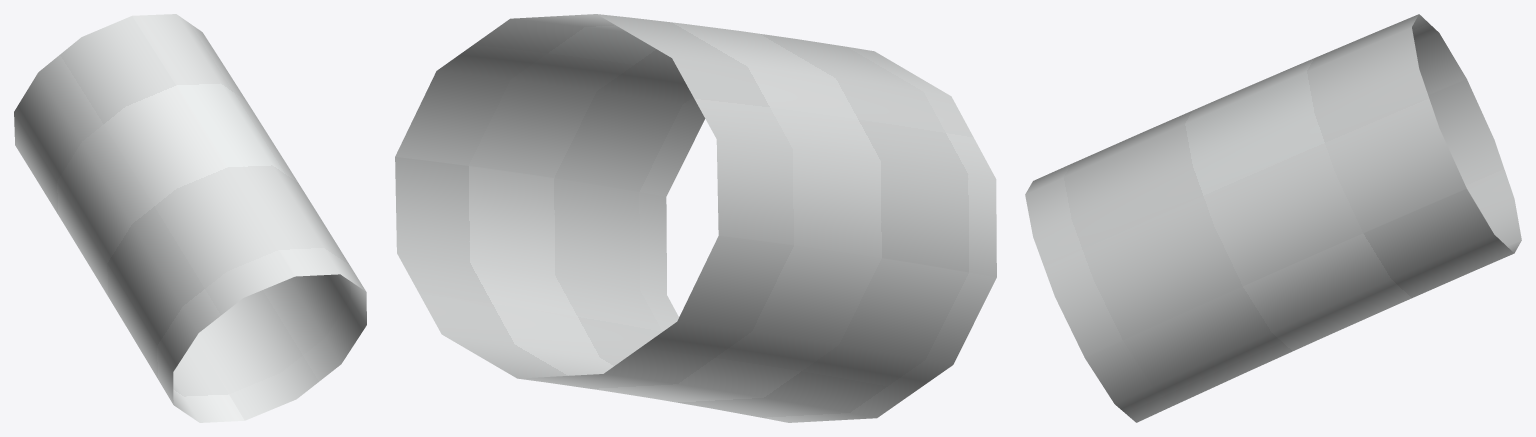
Rendered from luminairearm_caltrans15ft_c1.obj.
The picture shows the model from 3 angles, left to right: view 1: azimuth 30°, elevation 25°; view 2: azimuth 150°, elevation 25°; view 3: azimuth 270°, elevation 25°; orthographic projection. The views are drawn at different scales.
Parts seen in each view (by area): view 1: luminairearm_caltrans15ft_c1; view 2: luminairearm_caltrans15ft_c1; view 3: luminairearm_caltrans15ft_c1.
Part boxes in pixels (x1,y1,x2,y2): luminairearm_caltrans15ft_c1: (14, 14, 366, 422); luminairearm_caltrans15ft_c1: (395, 14, 996, 422); luminairearm_caltrans15ft_c1: (1025, 14, 1521, 422).
Size of the model in its own units: 0.2479 by 0.3941 by 0.4643.
